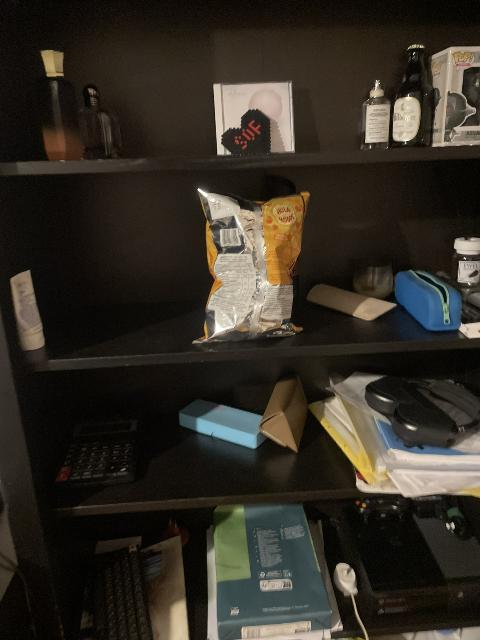Chio Hula Hoops Cheese 70g: (193, 189, 307, 343)
